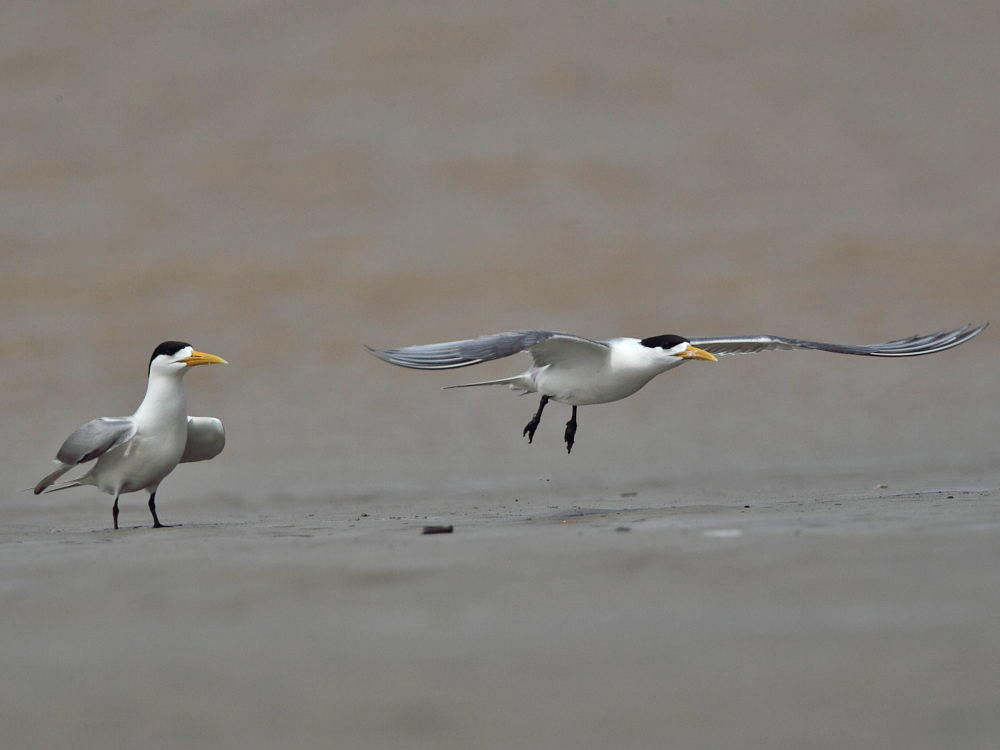bird: (339, 302, 988, 458), (31, 341, 240, 534)
